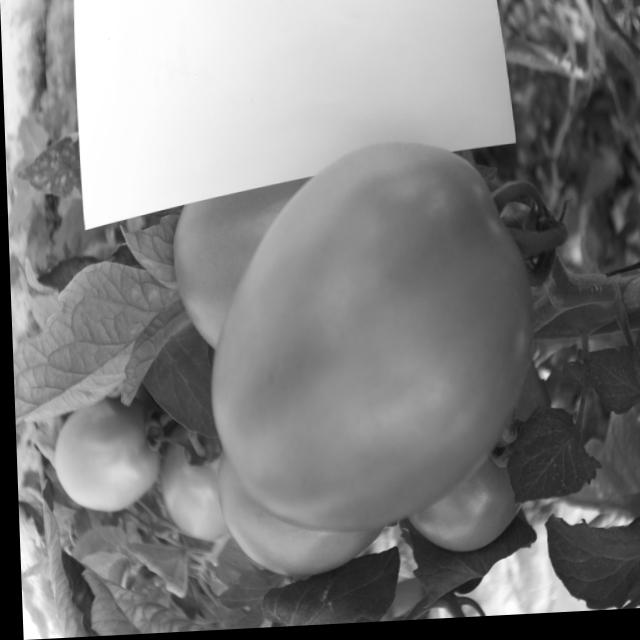yesil: (205, 128, 552, 581)
